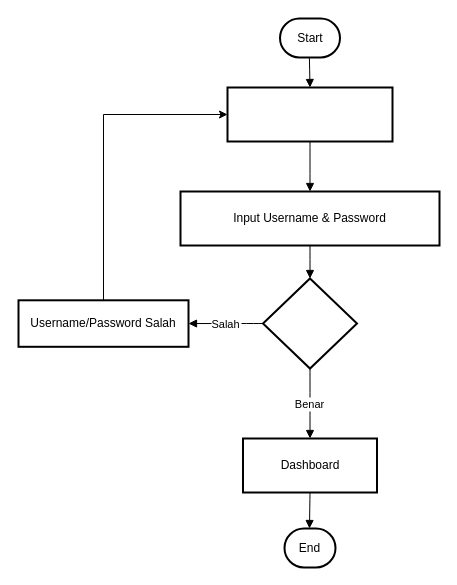
Image size: 457x585. Some labels were removed from this diagram. The centre of each missing label's shape, as x and y in pixels:
"Check User" belongs at (310,323).
"Halaman Login" belongs at (309,114).
